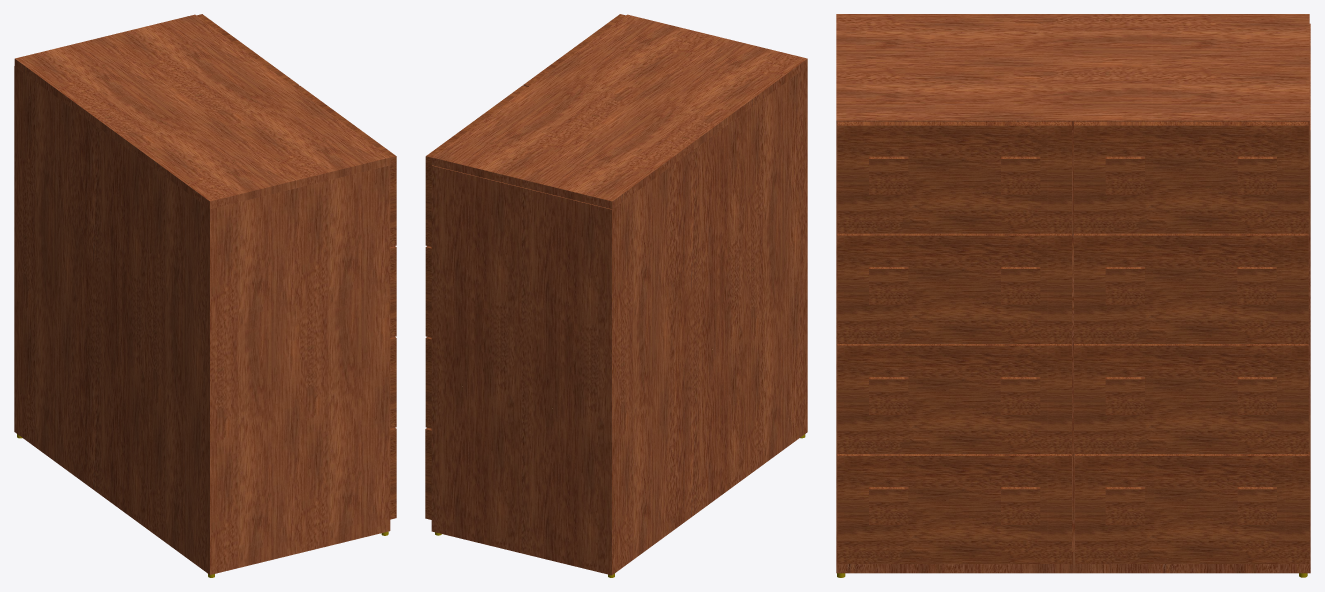
Rendered from gavetero-wichi.glb.
3 renders of one model, left to right at view 1: azimuth 30°, elevation 25°; view 2: azimuth 150°, elevation 25°; view 3: azimuth 270°, elevation 25°, orthographic. The views are drawn at different scales.
Size of the model in its own units: 0.528 by 0.96 by 0.902.
3 materials, 2 textured.
